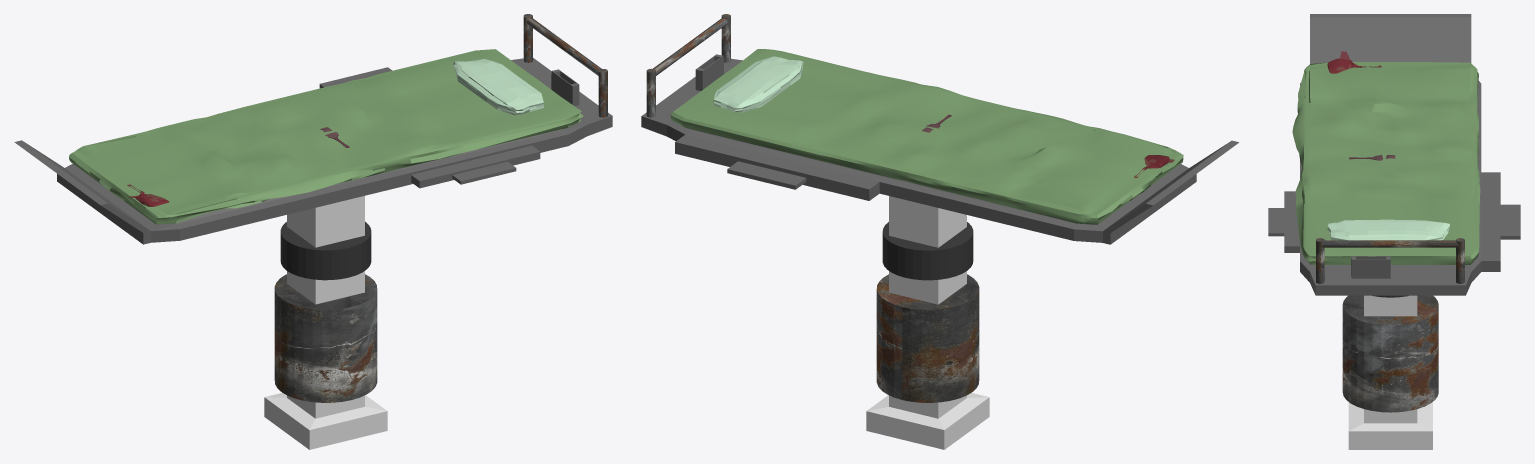
The model's file is PRP_OperatingBed.fbx.
3 views of the same model, side by side, from view 1: azimuth 30°, elevation 25°; view 2: azimuth 150°, elevation 25°; view 3: azimuth 270°, elevation 25° (orthographic). The views are drawn at different scales.
Visible parts, largest first — view 1: Plane; view 2: Plane; view 3: Plane.
Boxes of the visible parts, box(x1,y1,x2,y2) form: Plane: box(14, 14, 612, 449); Plane: box(641, 14, 1238, 449); Plane: box(1268, 14, 1520, 449).
Bounding box in the file's own units: 2.84 × 1.7 × 1.29.
11 materials, 4 textured.
